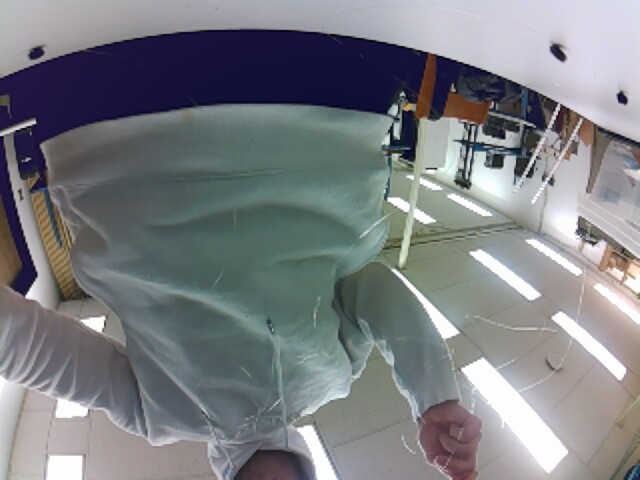mosquito: (547, 40, 569, 66), (25, 41, 45, 62), (616, 90, 629, 106)
